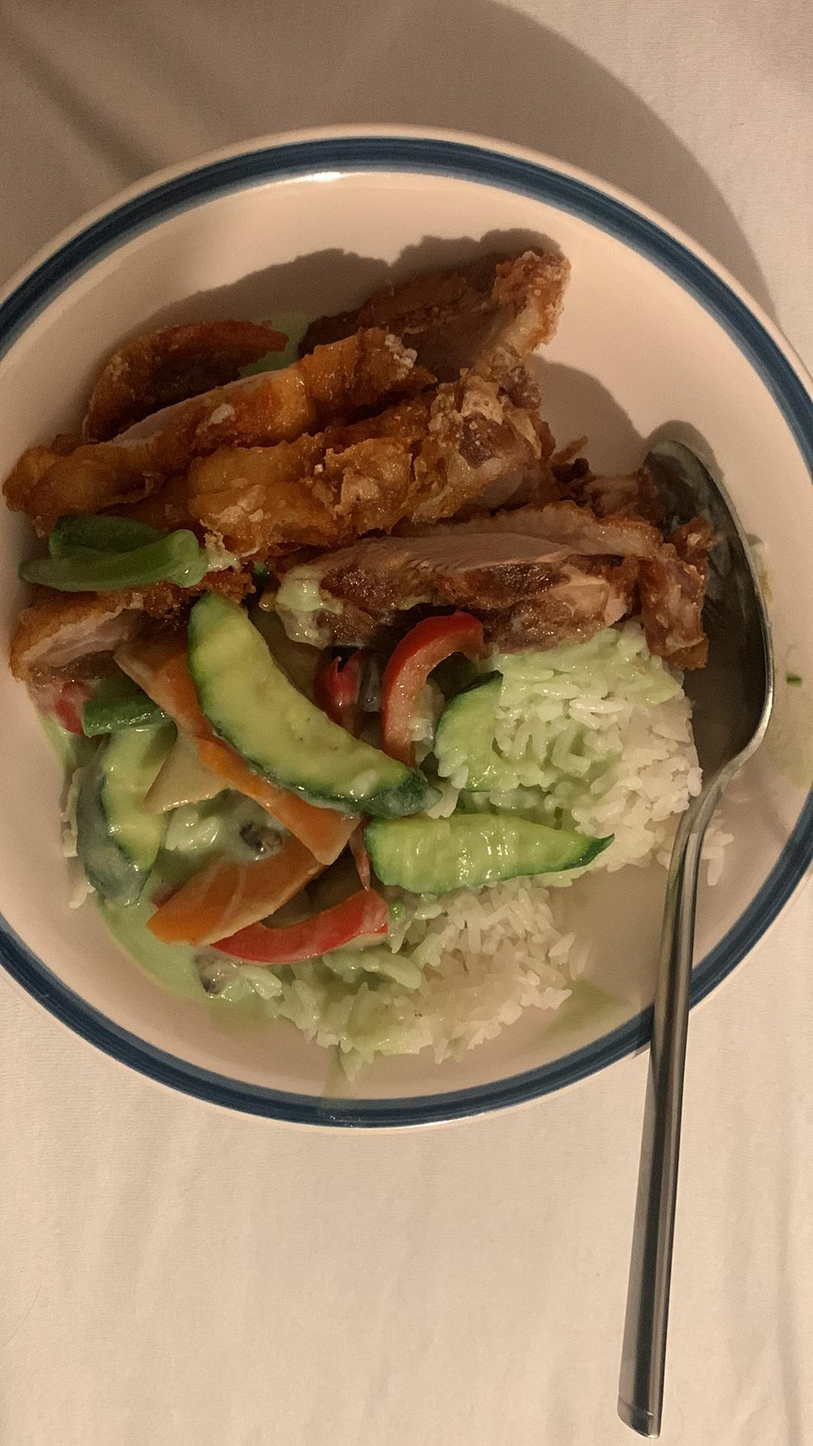bell pepper: (149, 822, 359, 954), (382, 606, 485, 756), (215, 885, 393, 968)
cucumber: (184, 582, 448, 829), (66, 728, 181, 929), (364, 805, 610, 896)
green bean: (20, 513, 210, 596), (75, 692, 173, 737)
